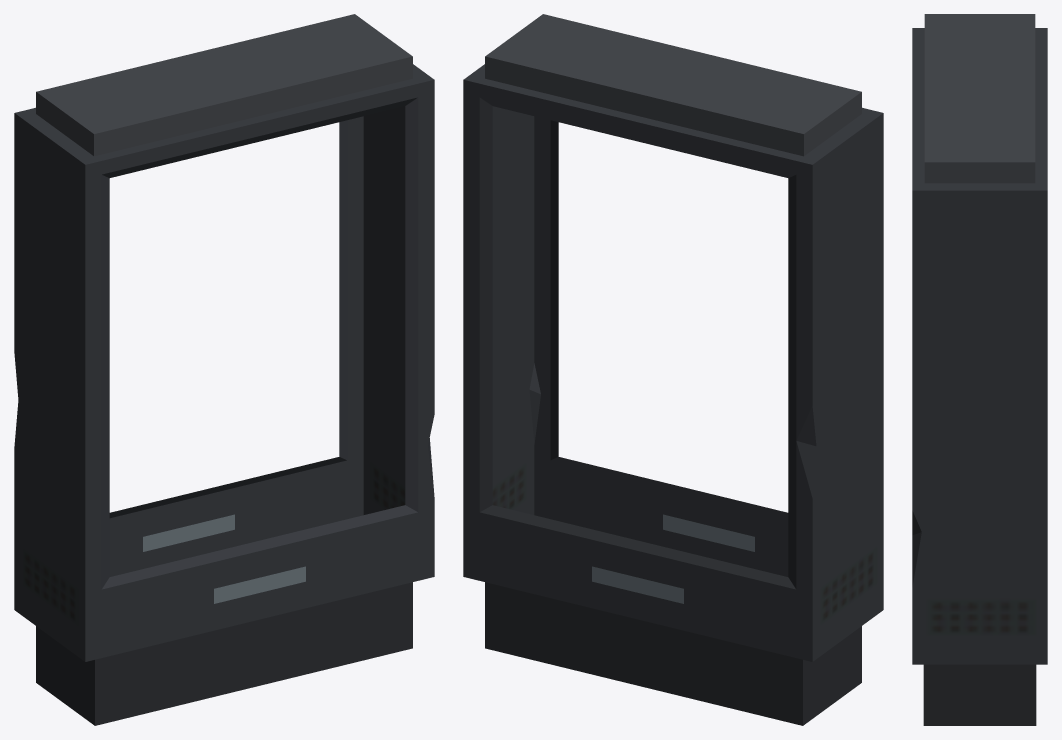
File: SM_Prop_Ad_Screen_01.obj
3 renders of one model, left to right at view 1: azimuth 30°, elevation 25°; view 2: azimuth 150°, elevation 25°; view 3: azimuth 270°, elevation 25°, orthographic. The views are drawn at different scales.
Parts seen in each view (by area): view 1: SM_Prop_Ad_Screen_01_0; view 2: SM_Prop_Ad_Screen_01_0; view 3: SM_Prop_Ad_Screen_01_0.
Part boxes in pixels (left/top/right/bottom): SM_Prop_Ad_Screen_01_0: left=14, top=14, right=434, bottom=725; SM_Prop_Ad_Screen_01_0: left=463, top=14, right=883, bottom=725; SM_Prop_Ad_Screen_01_0: left=912, top=14, right=1047, bottom=725.
Size of the model in its own units: 1.46 by 2.36 by 0.5137.
1 material, 1 textured.
